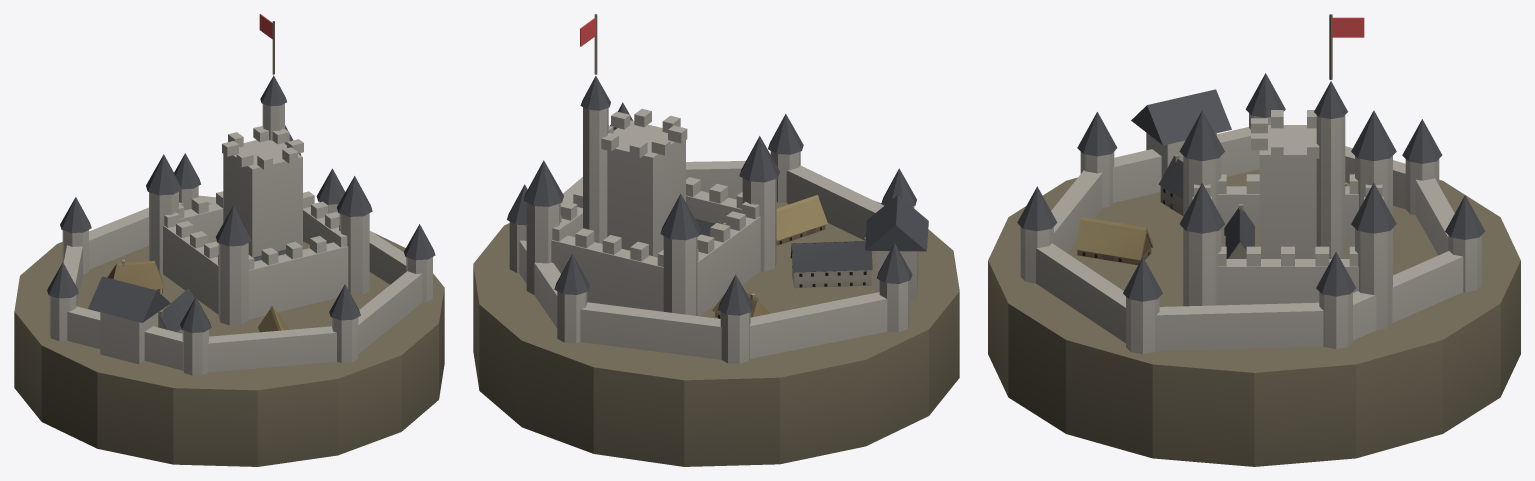
Rendered from castle_a.glb.
The picture shows the model from 3 angles, left to right: view 1: azimuth 30°, elevation 25°; view 2: azimuth 150°, elevation 25°; view 3: azimuth 270°, elevation 25°; orthographic projection. The views are drawn at different scales.
Parts seen in each view (by area): view 1: castle_a; view 2: castle_a; view 3: castle_a.
Part boxes in pixels (left/top/right/bottom): castle_a: left=14, top=14, right=444, bottom=466; castle_a: left=473, top=14, right=959, bottom=466; castle_a: left=988, top=14, right=1520, bottom=466.
Size of the model in its own units: 1.9 by 1.53 by 1.9.
